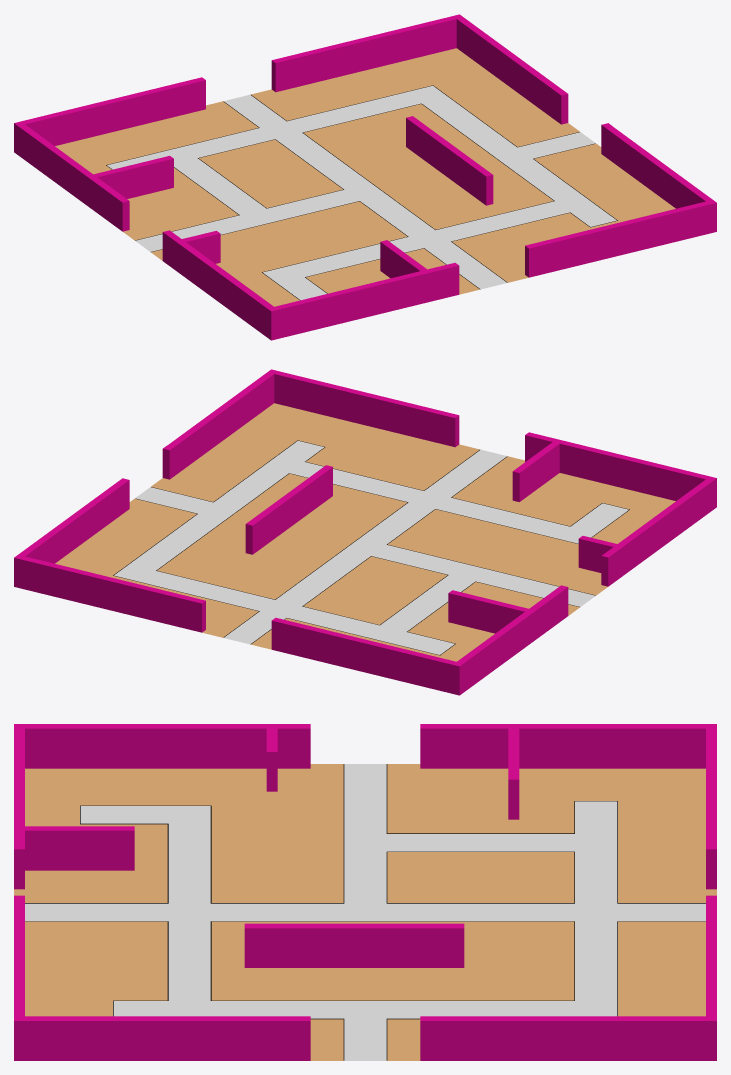
File: Room.fbx
The picture shows the model from 3 angles, top to bottom: view 1: azimuth 30°, elevation 25°; view 2: azimuth 150°, elevation 25°; view 3: azimuth 270°, elevation 25°; orthographic projection. The views are drawn at different scales.
Visible parts, largest first — view 1: Plane; view 2: Plane; view 3: Plane.
Boxes of the visible parts, bbox=[...] form: Plane: bbox=[14, 14, 716, 340]; Plane: bbox=[14, 369, 716, 695]; Plane: bbox=[14, 724, 716, 1060].
Bounding box in the file's own units: 800 × 50.3 × 800.
